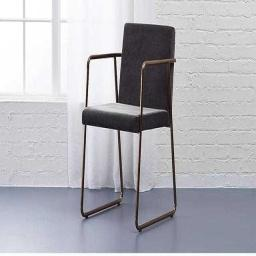Chair: (81, 20, 176, 233)
